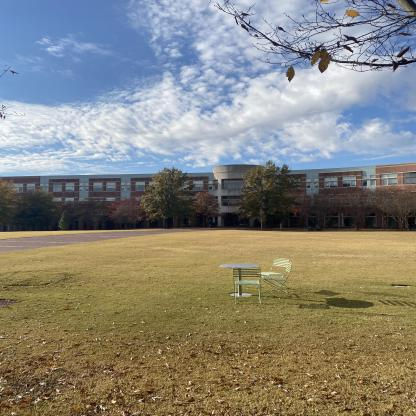EB-1: (5, 167, 415, 228)
